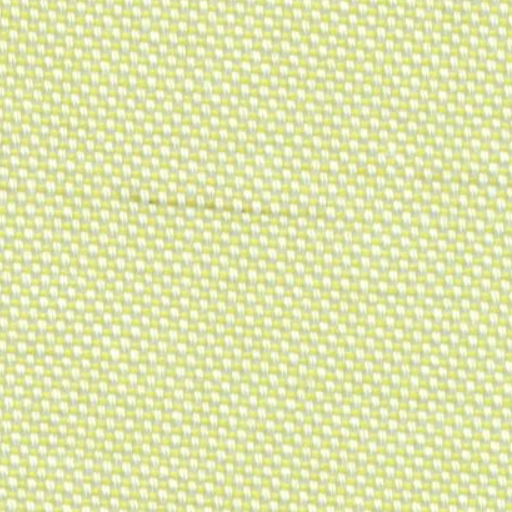WuZi: (124, 176, 309, 218)
